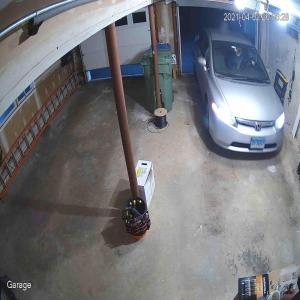garbage bin: (140, 41, 174, 115)
honda civic: (190, 24, 287, 168)
tool bucket: (121, 196, 151, 242)
